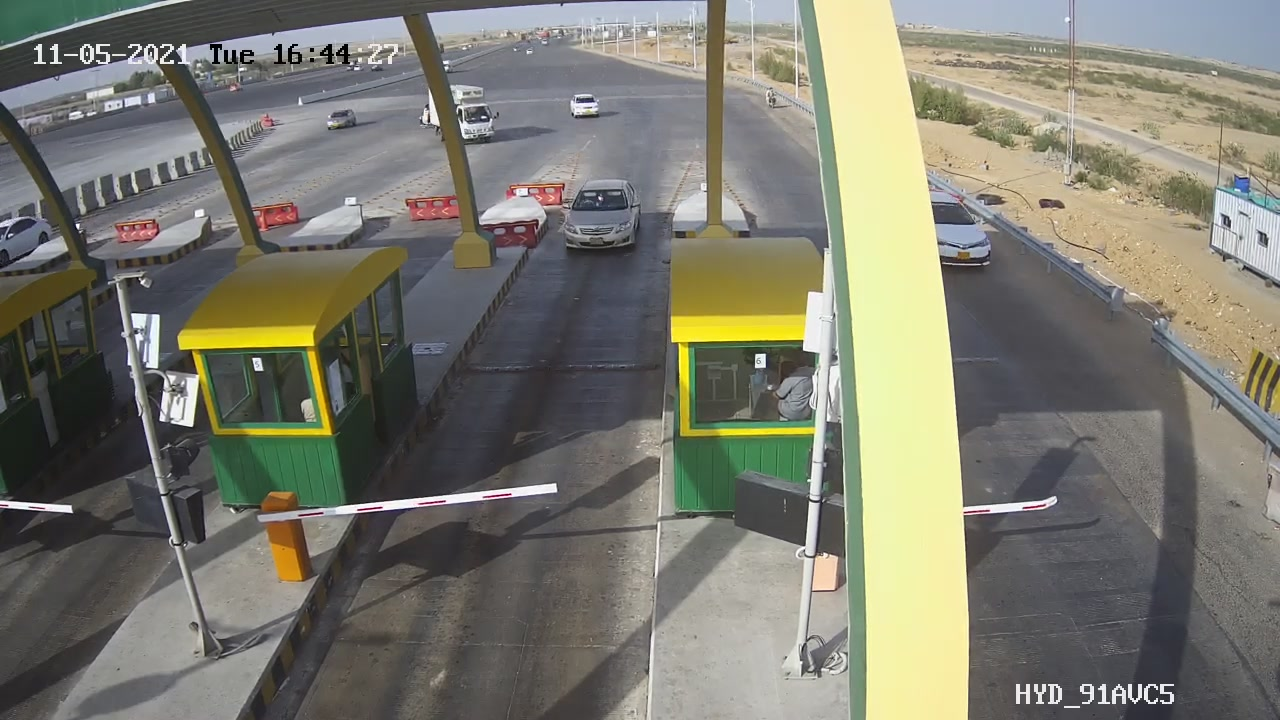F1: (540, 166, 661, 267)
